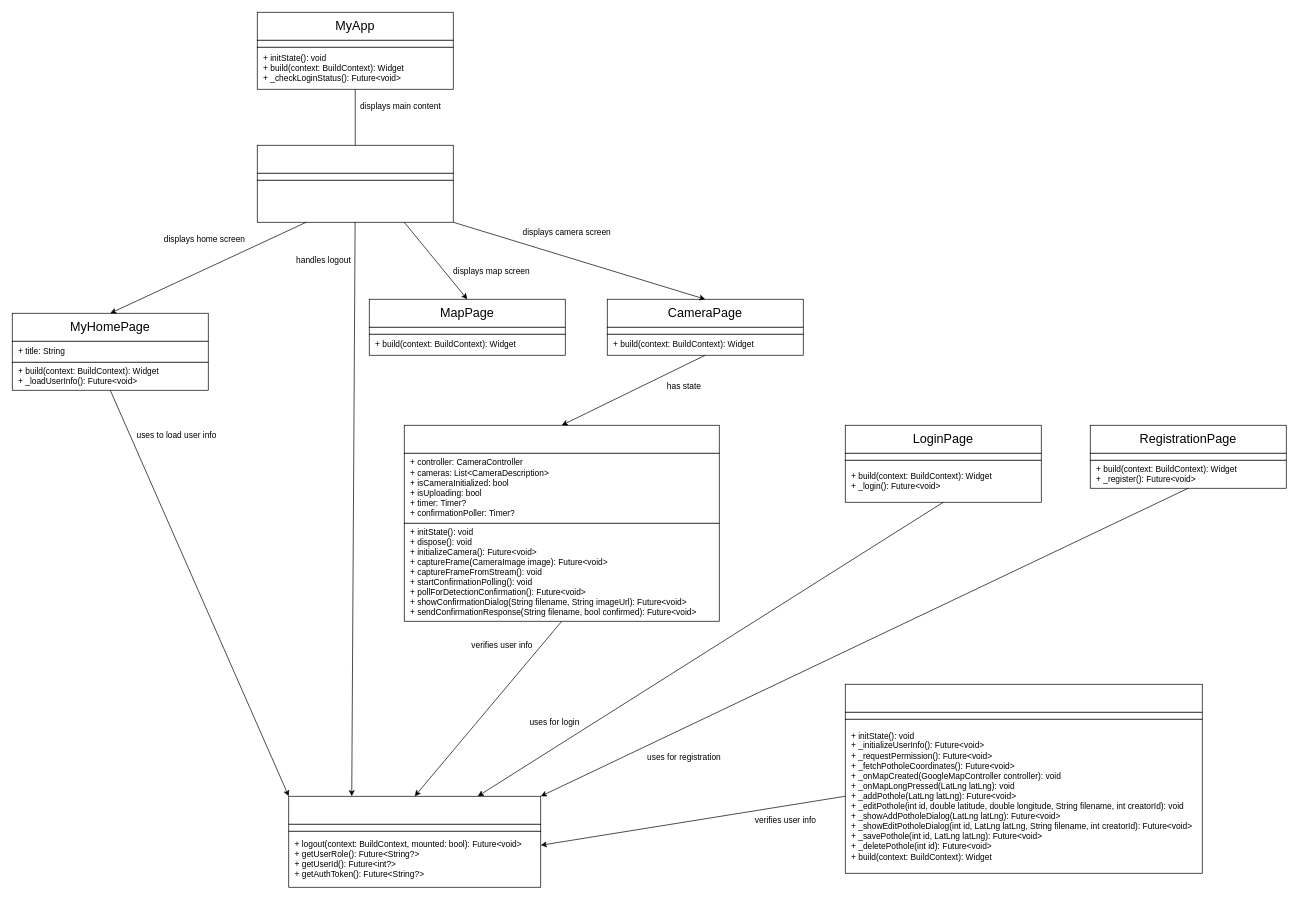
Some shapes in this 1299 by 900 pixel diagram are drawn without their labels. The shapes that lost their labels are listed below. From the top down, each one's box as (x1, y1, x2, y2) in pixels, then its label:
(257, 145, 453, 173): MainPage
(257, 180, 453, 222): + build(context: BuildContext): Widget + _onItemTapped(index: int): void
(404, 425, 719, 453): _CameraPageState
(845, 684, 1202, 712): GoogleMapWidget
(288, 796, 541, 824): AuthHelper
